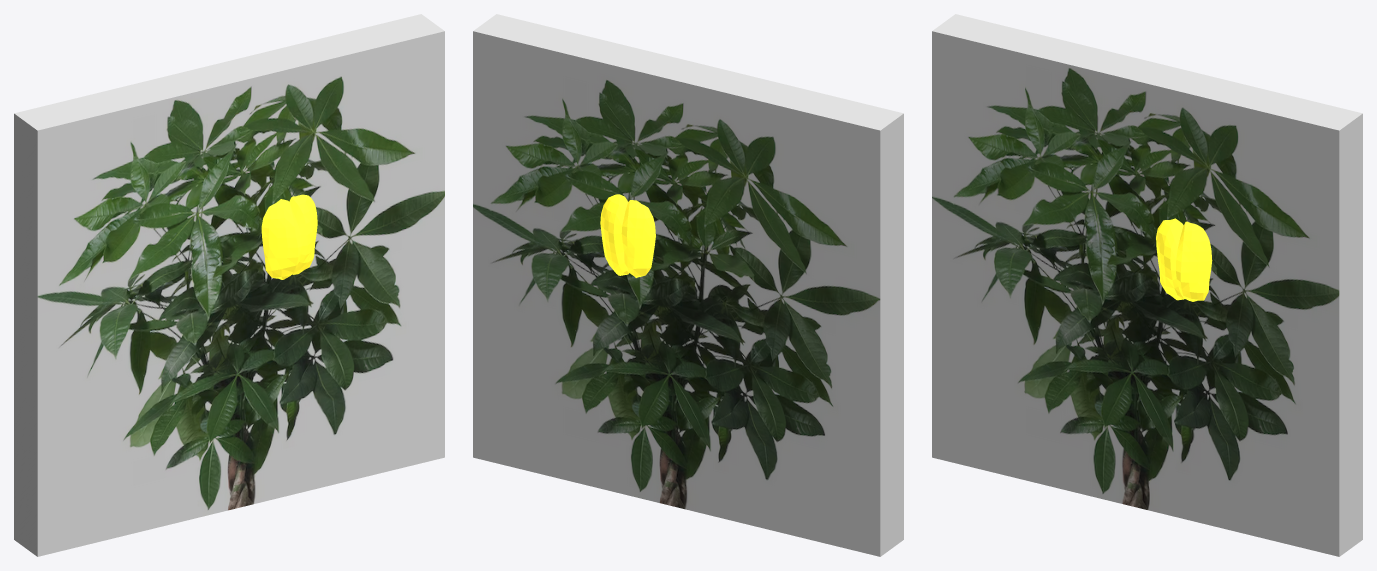
File: pepper_1.dae
3 renders of one model, left to right at view 1: azimuth 30°, elevation 25°; view 2: azimuth 150°, elevation 25°; view 3: azimuth 330°, elevation 25°, orthographic.
Visible parts, largest first — view 1: Cube, Sphere.001; view 2: Cube, Sphere.001; view 3: Cube, Sphere.001.
Boxes of the visible parts, x1,y1,x2,y2 form: Cube: (14, 14, 444, 556); Sphere.001: (261, 194, 317, 279); Cube: (473, 14, 903, 556); Sphere.001: (600, 194, 655, 277); Cube: (932, 14, 1362, 556); Sphere.001: (1156, 218, 1212, 301).
Size of the model in its own units: 1 by 0.1795 by 1.
2 materials, 1 textured.
